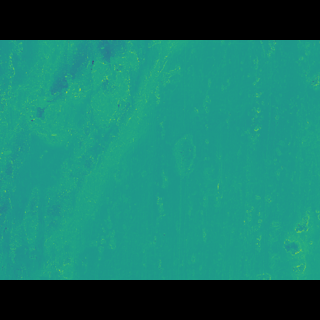Loch: (0, 71, 187, 250)
